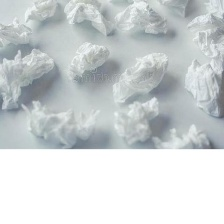tissue: (180, 0, 223, 121), (17, 95, 105, 148), (0, 44, 60, 114), (108, 48, 172, 108), (110, 92, 163, 148), (108, 0, 174, 40), (60, 0, 121, 39), (63, 39, 114, 84), (164, 119, 216, 148), (0, 12, 37, 48), (20, 0, 63, 26)
